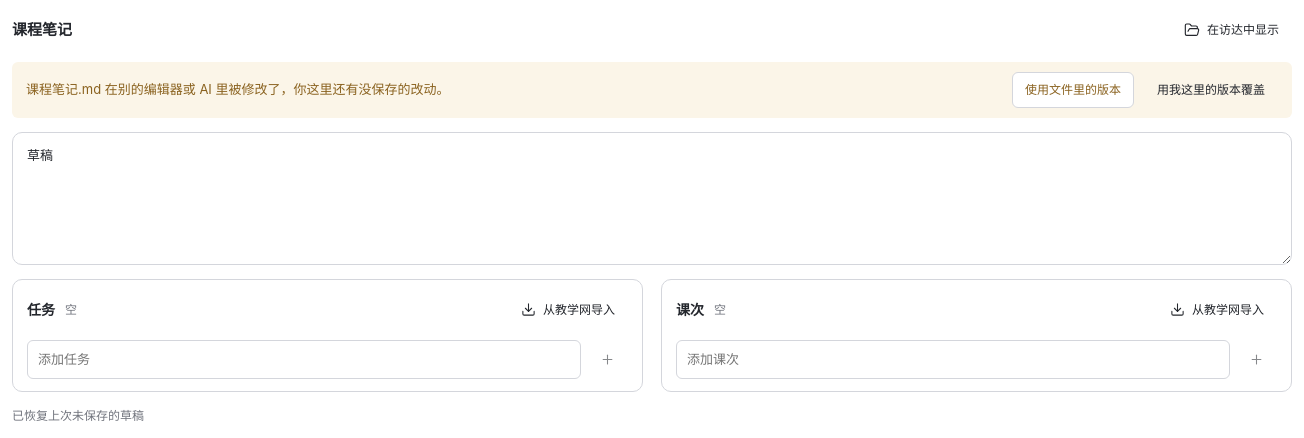
Test: keeps a recovered draft from overwriting a newer external file
Click the button "使用文件里的版本": point(1073, 90) [1012,72,1134,108]
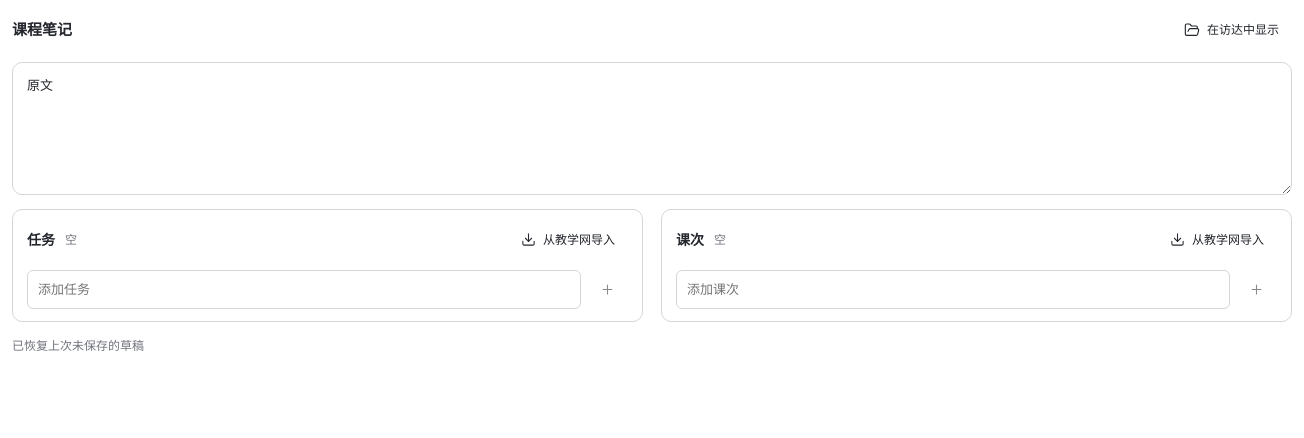
Check: the text box named "课程笔记" holds "原文", box [12,62,1292,195]
